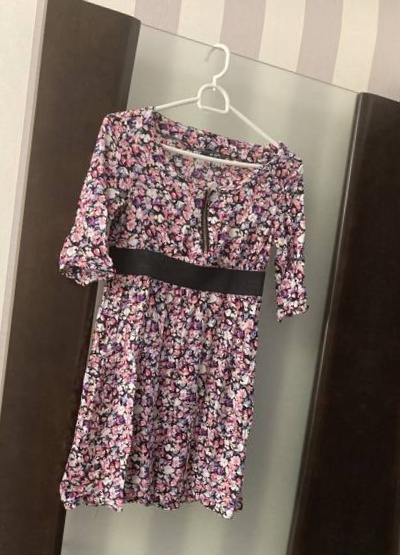Dress: (7, 102, 343, 534)
